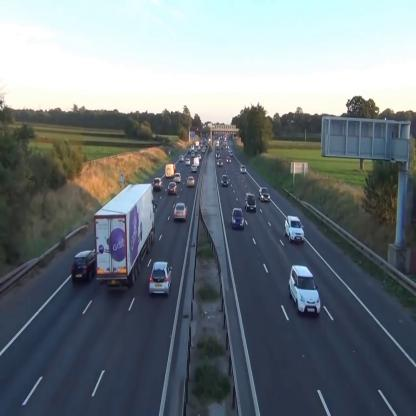car: (289, 265, 320, 314), (150, 262, 172, 296), (72, 250, 95, 281), (284, 216, 304, 243), (174, 204, 188, 222), (232, 208, 244, 229), (259, 186, 271, 201), (246, 194, 256, 210), (165, 164, 175, 178), (168, 182, 178, 195), (154, 177, 162, 190), (221, 174, 228, 185), (187, 176, 194, 186), (173, 173, 181, 181), (240, 164, 246, 173), (191, 164, 197, 172), (179, 154, 184, 162), (217, 158, 222, 166), (194, 157, 198, 166), (185, 158, 190, 165), (226, 157, 230, 162)
lorry: (95, 182, 153, 288)
